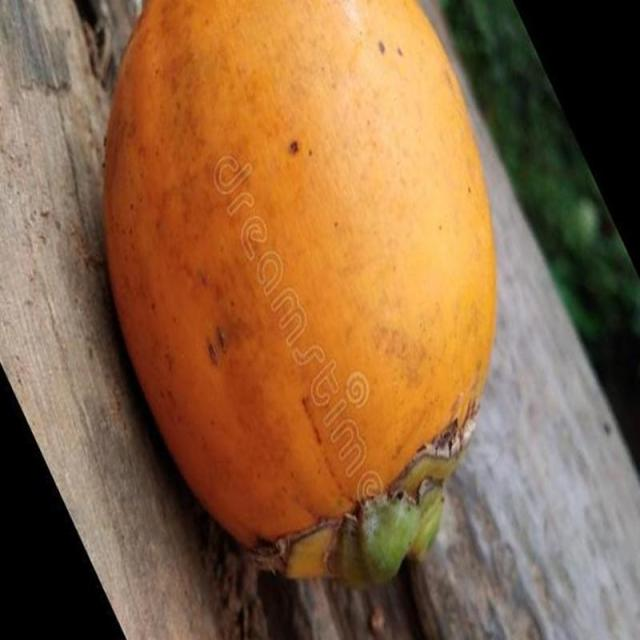good: (103, 0, 498, 589)
